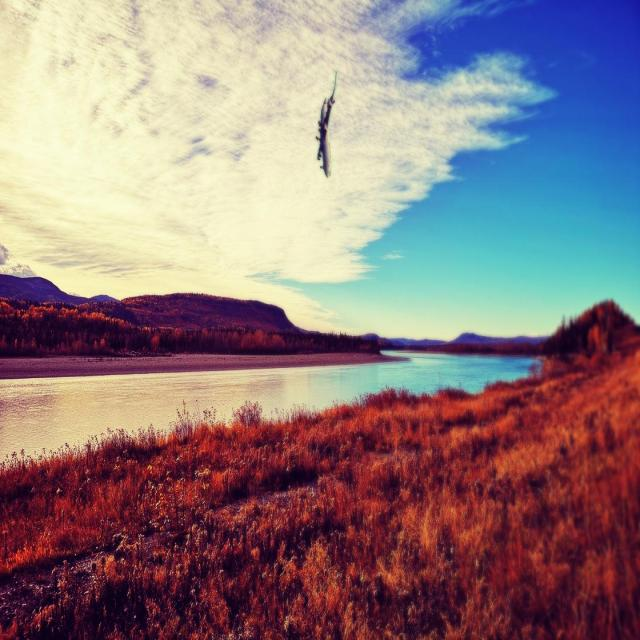airplane: (315, 70, 337, 178)
